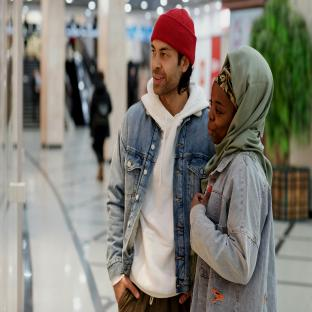Human: (107, 8, 214, 312), (187, 46, 278, 312)
